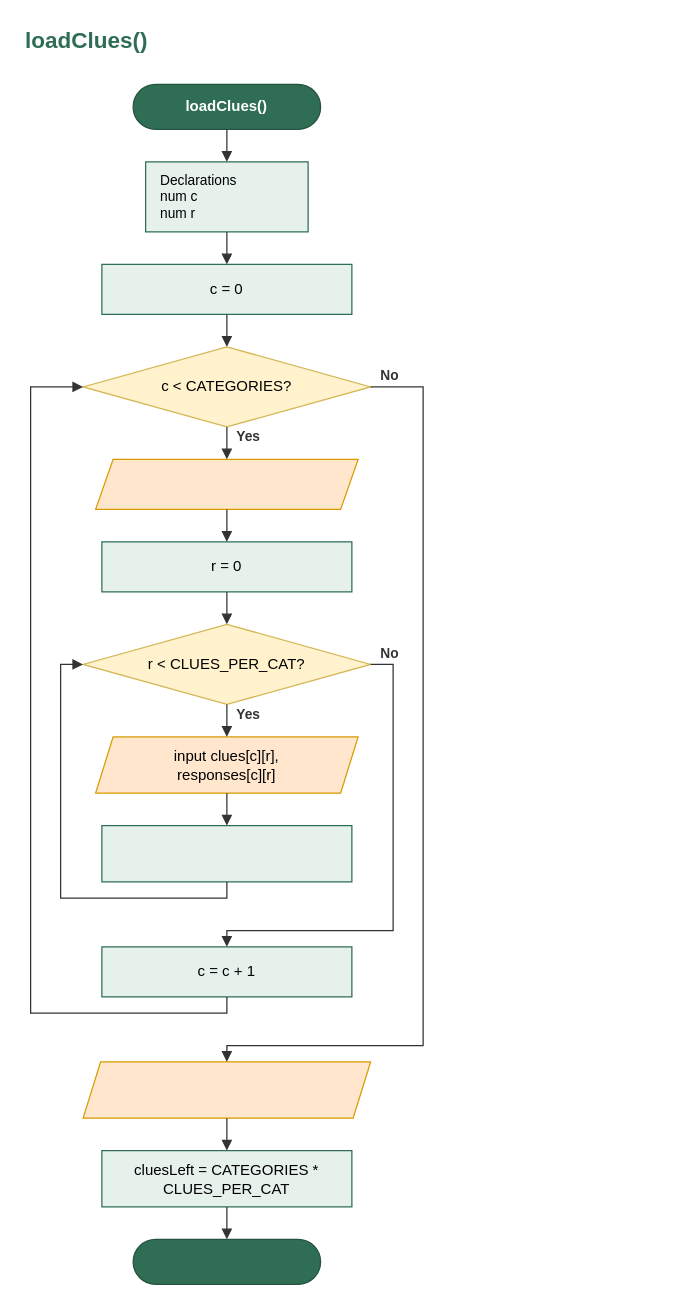
Image size: 695x1306. Some labels were removed from this diagram. Here are the shapes that lost their labels. From the top down, the centre of each, then its label:
pixel 226 483: input categories[c]
pixel 226 853: used[c][r] = "N" r = r + 1
pixel 226 1089: input finalCategory, finalClue, finalResponse
pixel 226 1261: return
